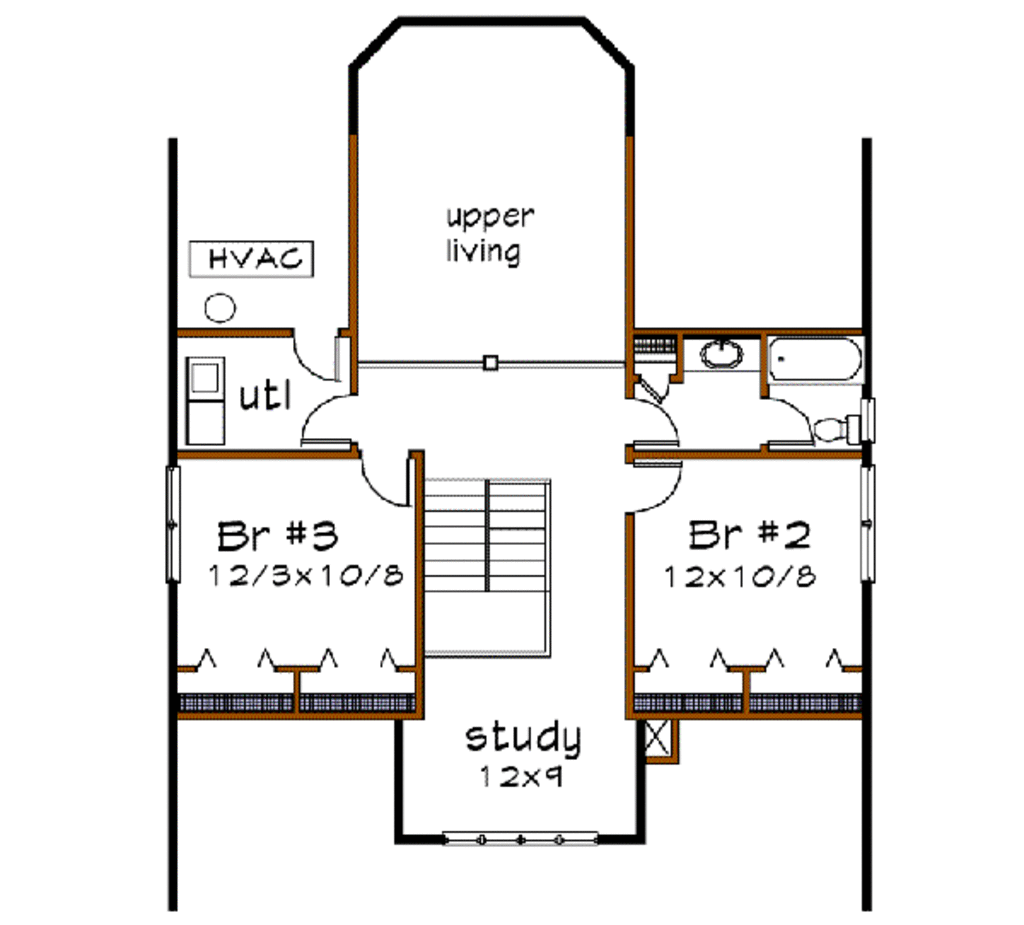door: (299, 384, 365, 447), (282, 323, 352, 380), (354, 450, 412, 517), (626, 388, 686, 446), (621, 457, 685, 508), (756, 391, 814, 444)
large_sink: (825, 406, 872, 447)
small_sink: (684, 328, 762, 376)
stairs: (416, 468, 564, 680)
tub: (765, 336, 872, 381)
window: (436, 820, 605, 857), (851, 464, 886, 587), (164, 458, 192, 583)
